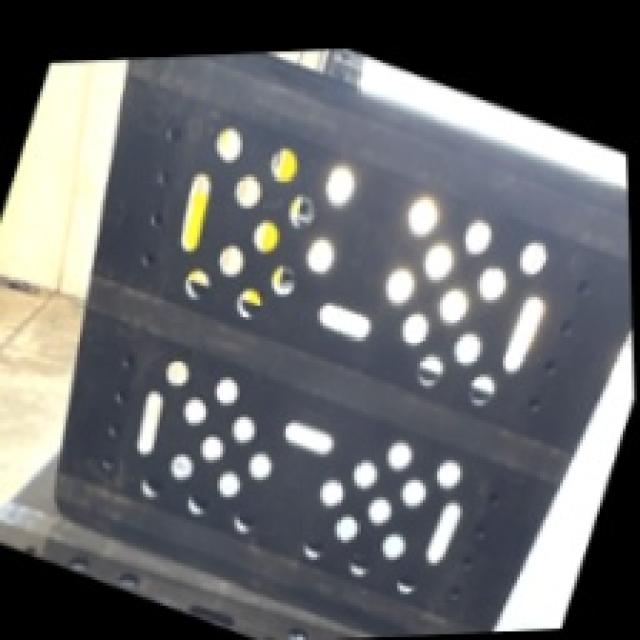igps: (49, 47, 635, 640)
